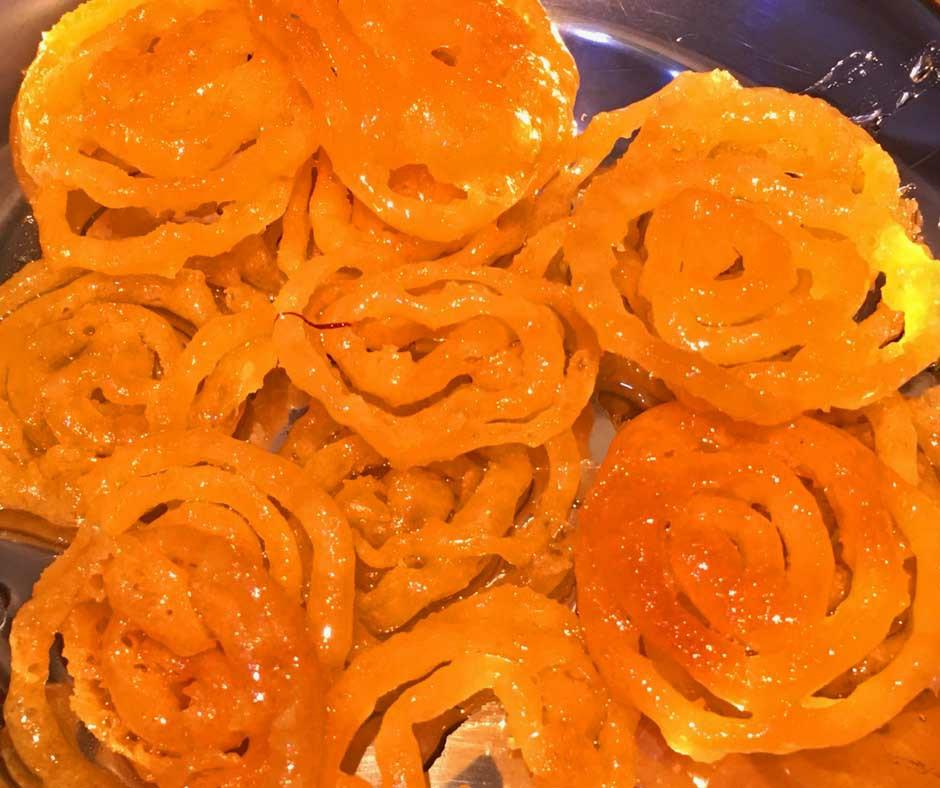Jalebi: (1, 0, 940, 788)
